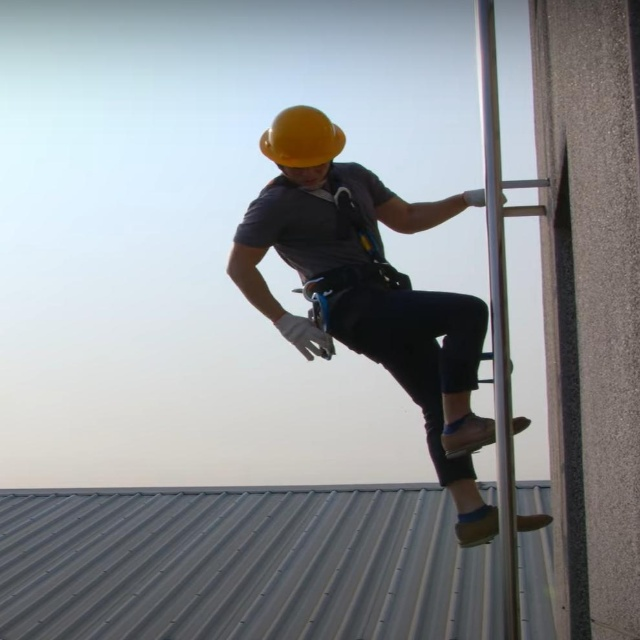Arnes_seguridad: (267, 168, 415, 345)
